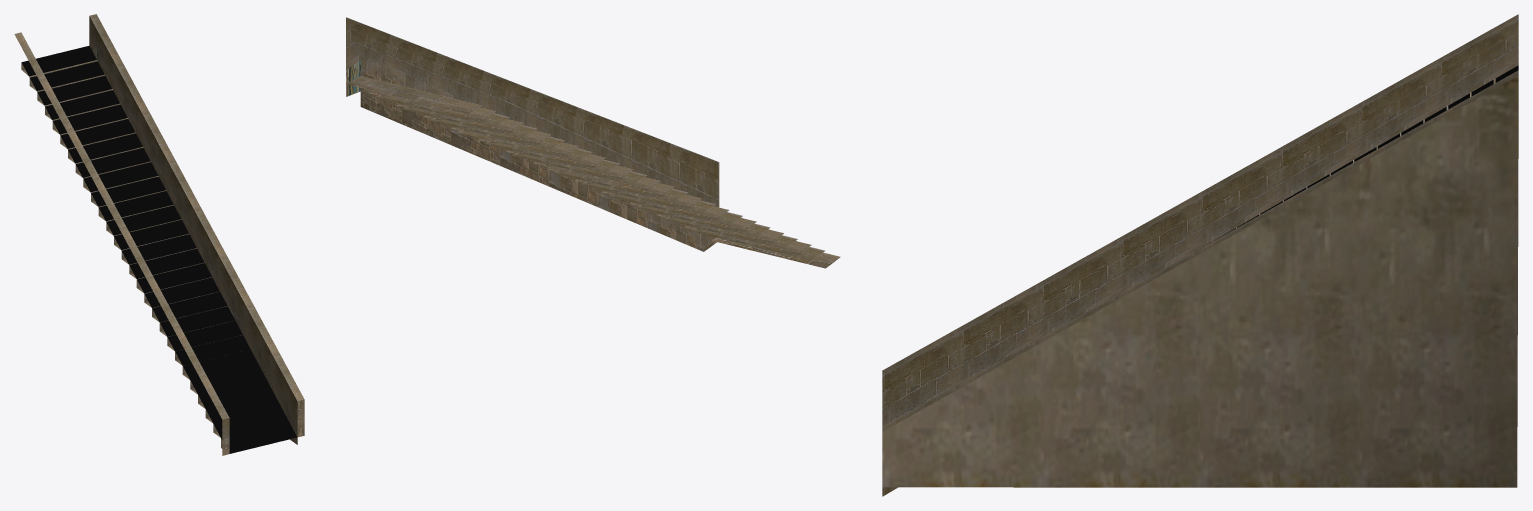
The model's file is M7_InnerStairs_A.glb.
The picture shows the model from 3 angles, left to right: view 1: azimuth 30°, elevation 25°; view 2: azimuth 150°, elevation 25°; view 3: azimuth 270°, elevation 25°; orthographic projection. The views are drawn at different scales.
Visible parts, largest first — view 1: M7_INNERSTAIRS_A; view 2: M7_INNERSTAIRS_A; view 3: M7_INNERSTAIRS_A.
Part boxes in pixels (left/top/right/bottom): M7_INNERSTAIRS_A: left=14, top=14, right=304, bottom=455; M7_INNERSTAIRS_A: left=346, top=17, right=840, bottom=268; M7_INNERSTAIRS_A: left=882, top=14, right=1518, bottom=496.
Size of the model in its own units: 2.88 by 10.43 by 12.59.
4 materials, 3 textured.
